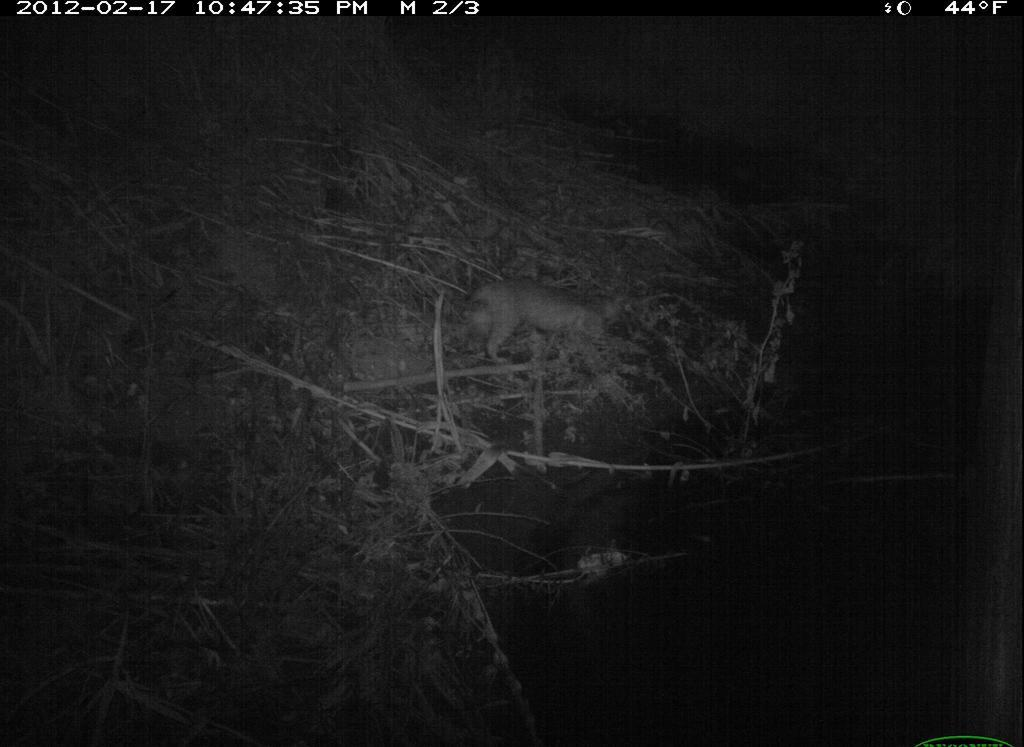bobcat: (454, 267, 648, 376)
